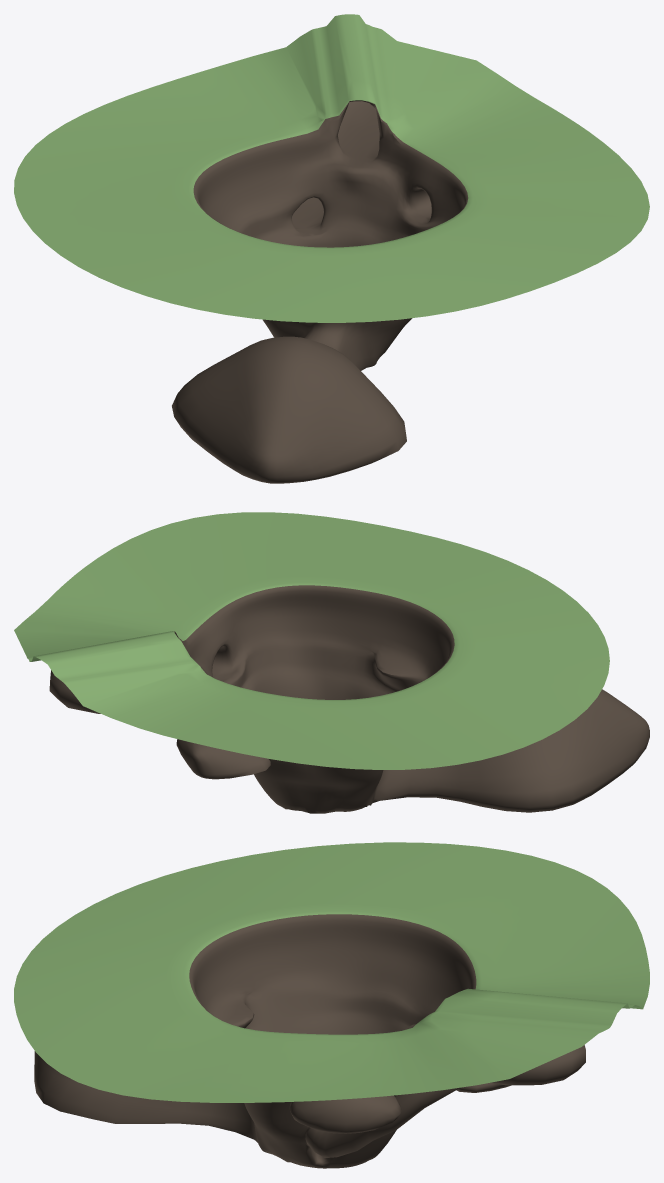
Rendered from Terrain.fbx.
The picture shows the model from 3 angles, top to bottom: view 1: azimuth 30°, elevation 25°; view 2: azimuth 150°, elevation 25°; view 3: azimuth 270°, elevation 25°; orthographic projection. The views are drawn at different scales.
Parts seen in each view (by area): view 1: Cylinder; view 2: Cylinder; view 3: Cylinder.
Boxes of the visible parts, box(x1,y1,x2,y2) form: Cylinder: box(14, 14, 649, 483); Cylinder: box(14, 512, 649, 813); Cylinder: box(14, 842, 649, 1168).
Size of the model in its own units: 12106 by 4515 by 11923.
